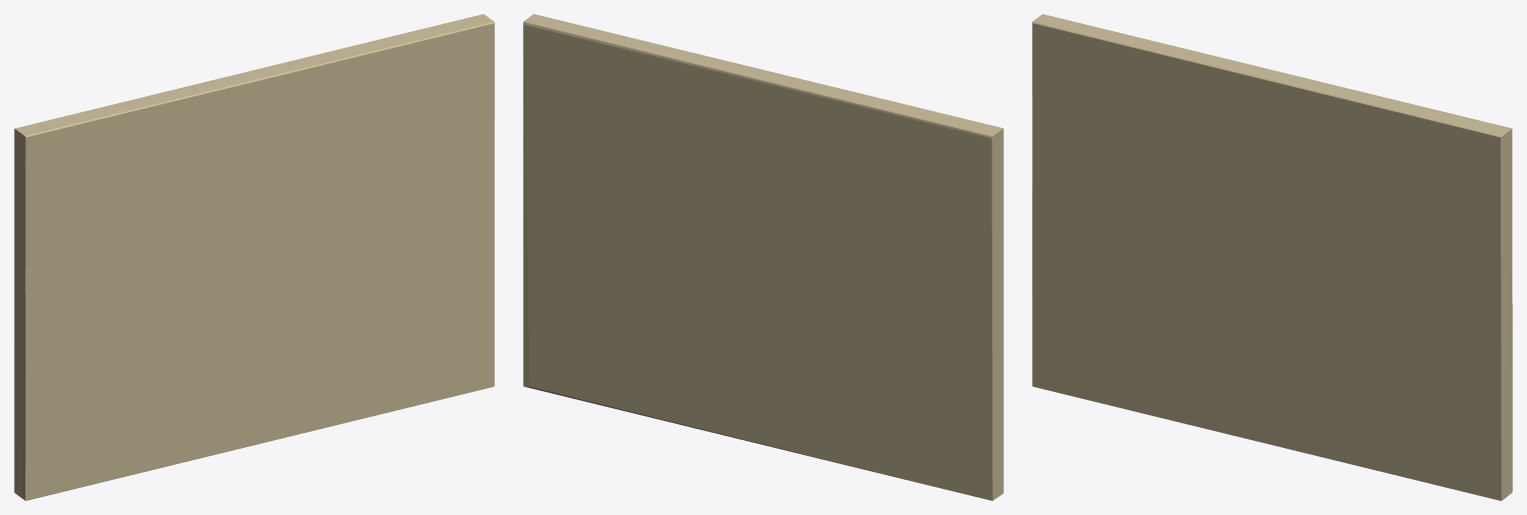
The model's file is misc_notebook_a02.glb.
The picture shows the model from 3 angles, left to right: view 1: azimuth 30°, elevation 25°; view 2: azimuth 150°, elevation 25°; view 3: azimuth 330°, elevation 25°; orthographic projection.
Visible parts, largest first — view 1: geometry_0; view 2: geometry_0; view 3: geometry_0.
Boxes of the visible parts, x1,y1,x2,y2 form: geometry_0: (14,14,494,500); geometry_0: (523,14,1003,500); geometry_0: (1032,14,1512,500).
Size of the model in its own units: 0.48 by 0.3564 by 0.0205.
